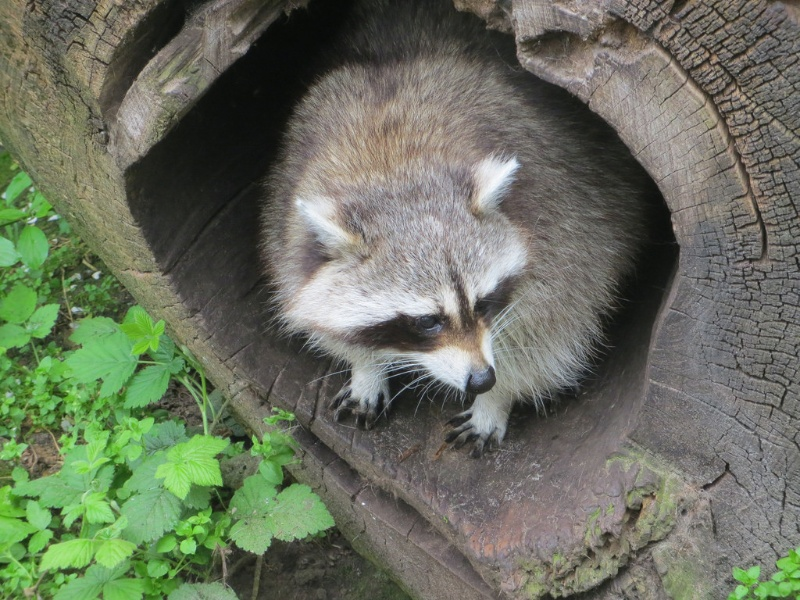raccoon: (254, 11, 669, 468)
